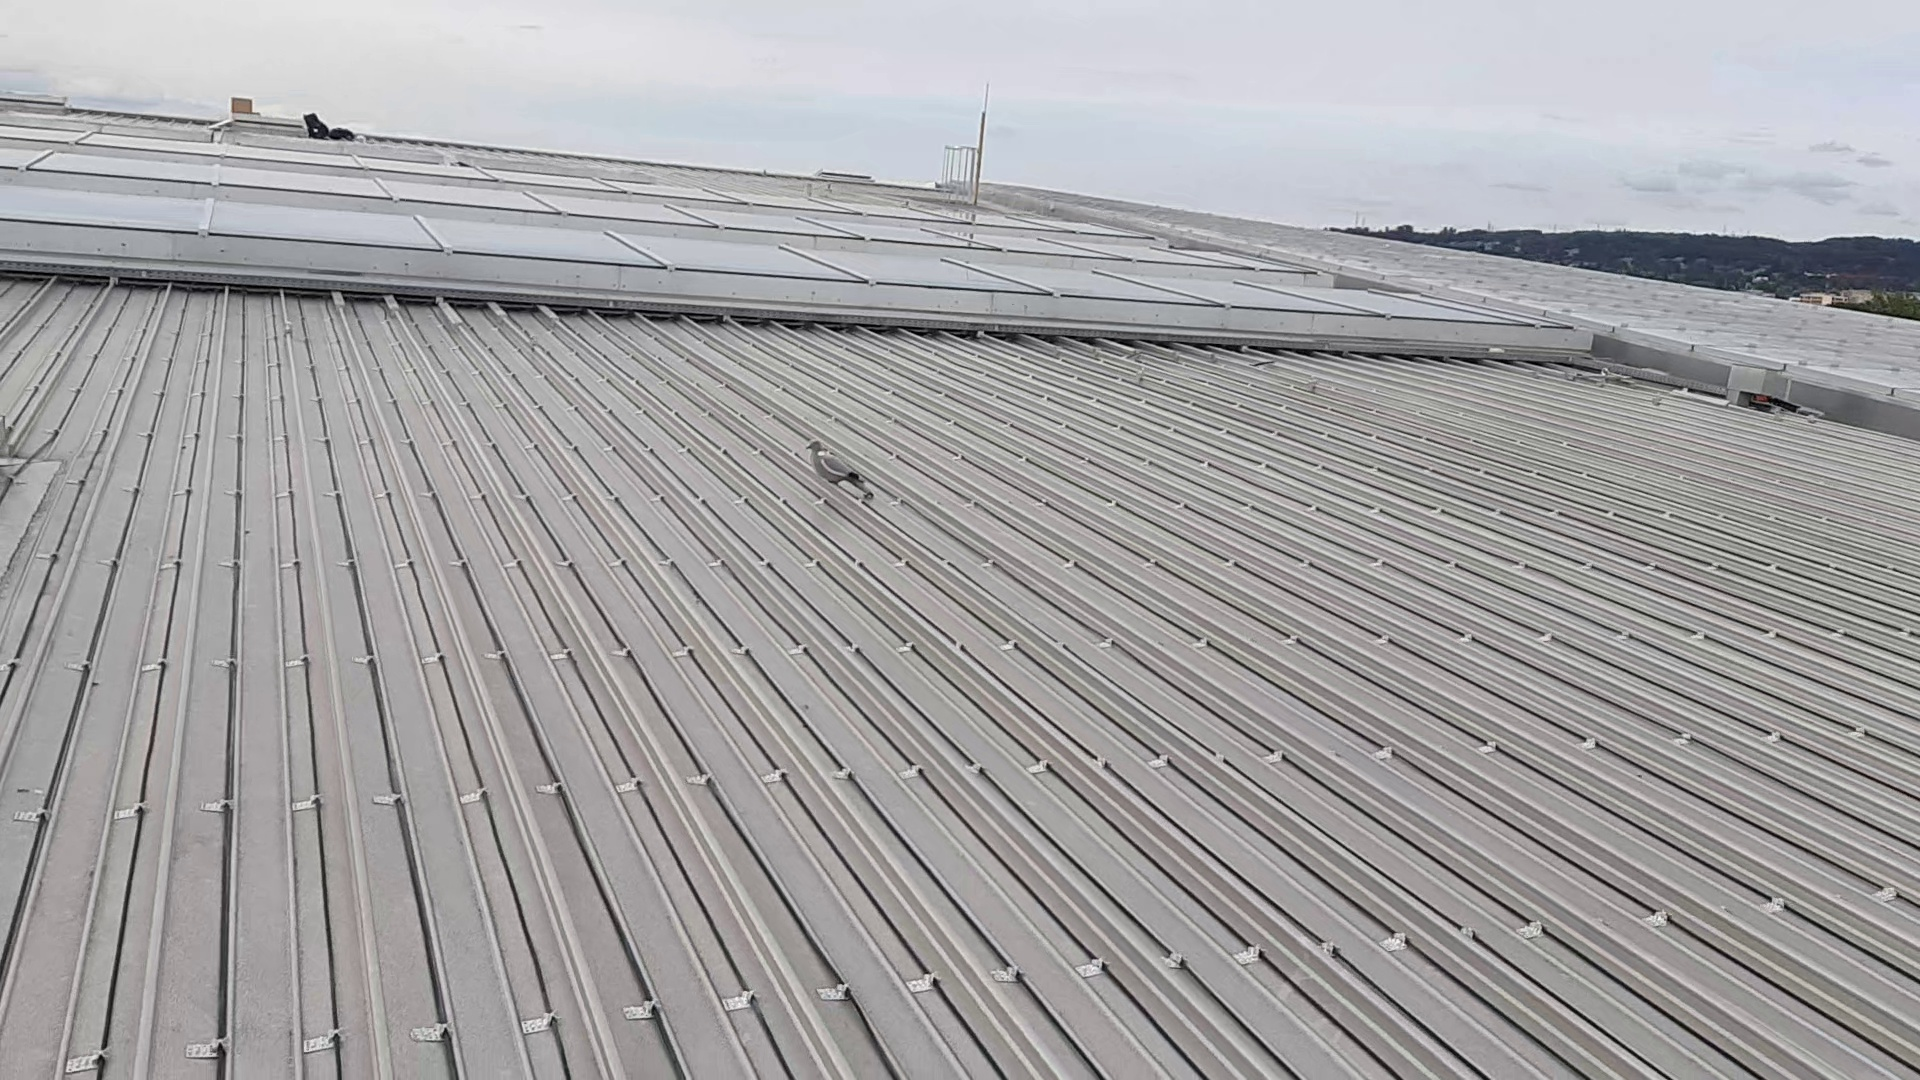Pigeon: (803, 442, 878, 506)
